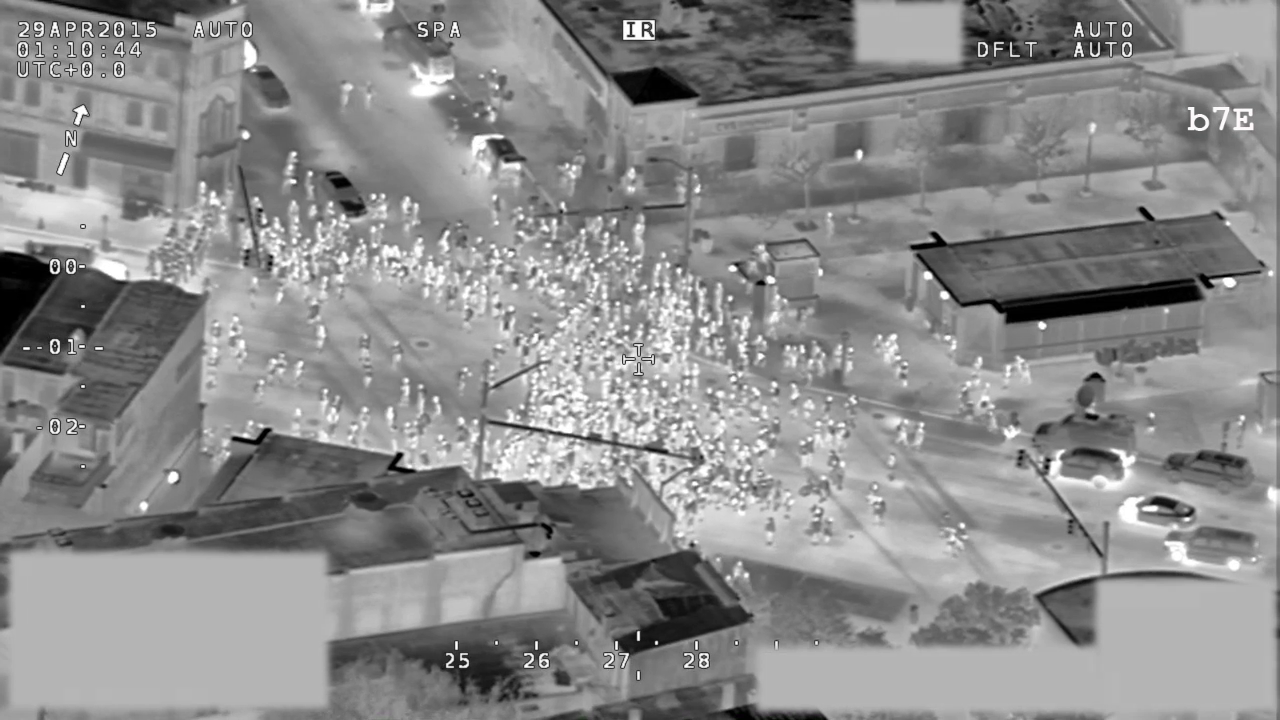vehicle: (1028, 384, 1139, 468), (379, 19, 453, 95), (1161, 524, 1262, 572), (21, 240, 132, 282), (1161, 446, 1257, 494), (1042, 446, 1125, 490), (1115, 493, 1199, 533), (469, 134, 525, 186), (244, 63, 297, 116), (319, 165, 370, 220)
